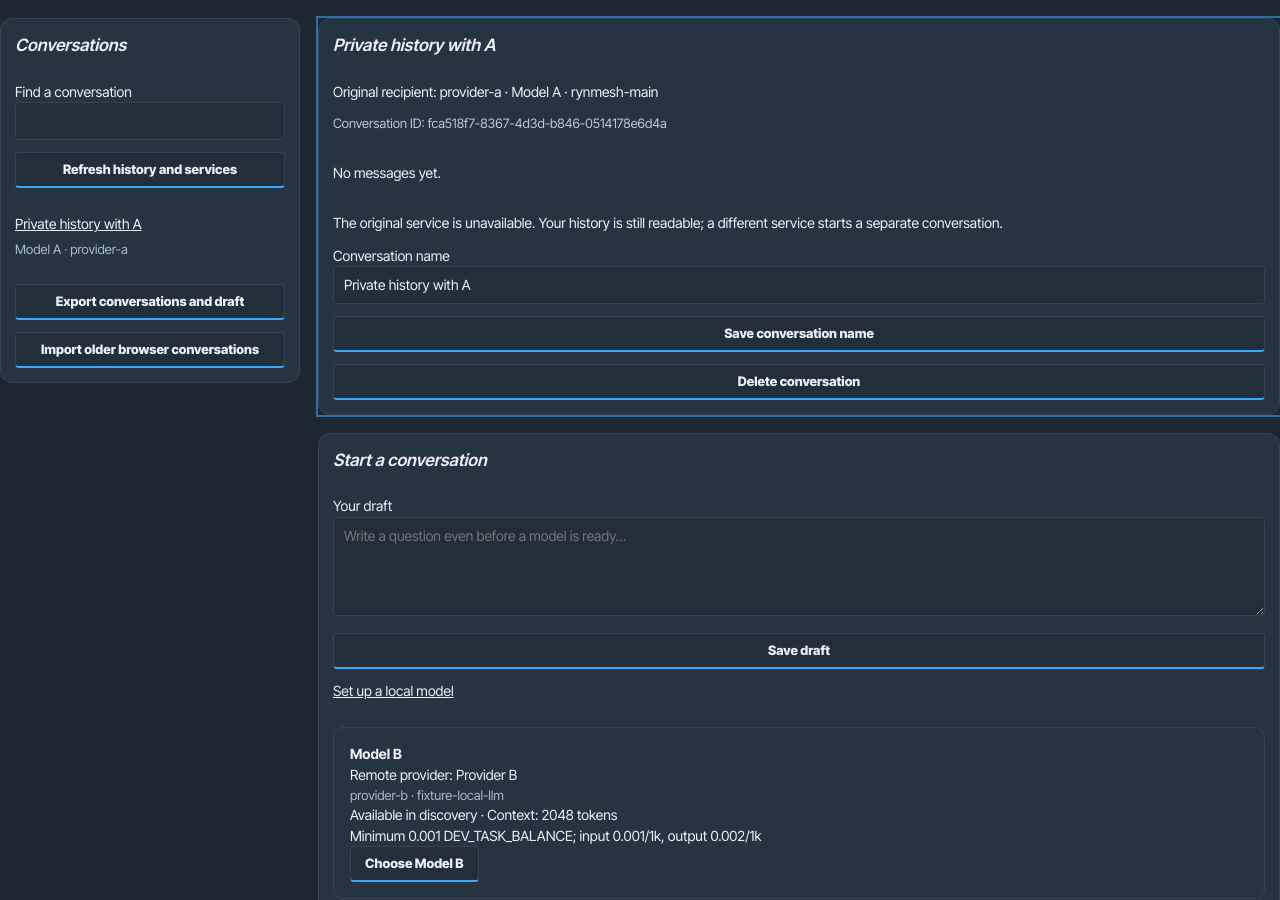
Test case: reviews the recipient and opens a separate provider conversation without forwarding history
(page scrolled)
Step 1. Click the button "Choose Model B" → (414,864), box [350,846,479,882]
(page scrolled)
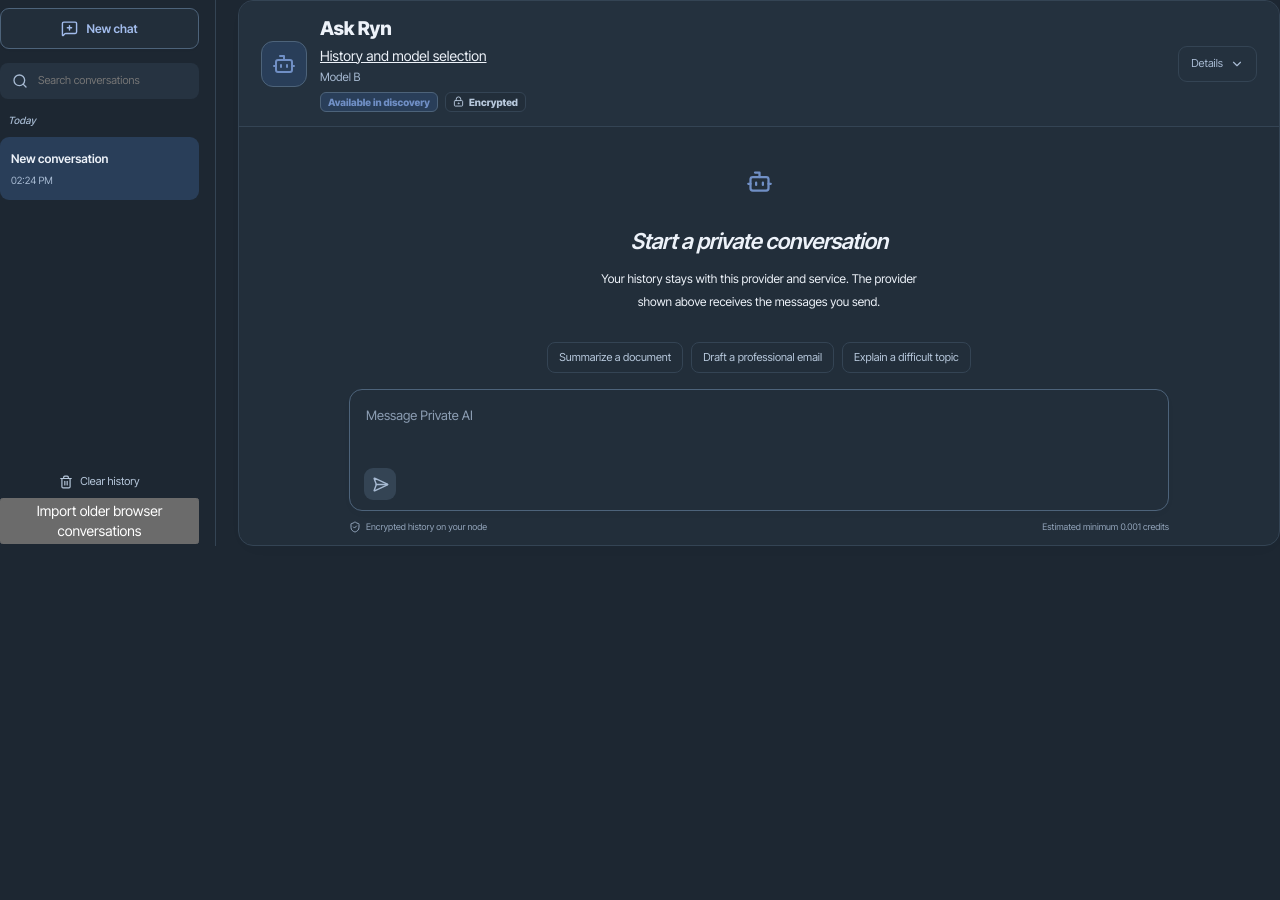
Result: the text box labelled "Message Private AI" is shown at [364,402,1154,464]
